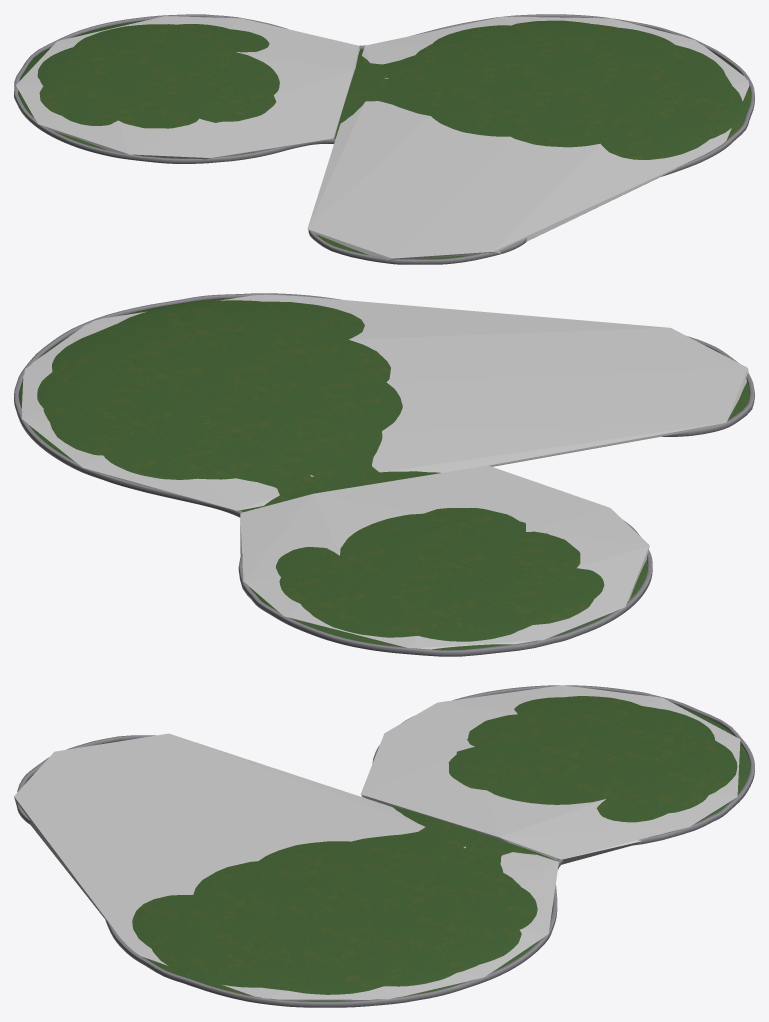
The model's file is SM_GrassPlatform.fbx.
3 renders of one model, top to bottom at view 1: azimuth 30°, elevation 25°; view 2: azimuth 150°, elevation 25°; view 3: azimuth 270°, elevation 25°, orthographic. The views are drawn at different scales.
Parts seen in each view (by area): view 1: SM_GrassPlatform, SM_GrassPlatform_ConvexHulls; view 2: SM_GrassPlatform, SM_GrassPlatform_ConvexHulls; view 3: SM_GrassPlatform, SM_GrassPlatform_ConvexHulls.
Part boxes in pixels (bbox=[...]): SM_GrassPlatform: bbox=[14, 14, 754, 264]; SM_GrassPlatform_ConvexHulls: bbox=[16, 16, 749, 261]; SM_GrassPlatform: bbox=[14, 293, 754, 656]; SM_GrassPlatform_ConvexHulls: bbox=[21, 294, 748, 649]; SM_GrassPlatform: bbox=[17, 685, 754, 1007]; SM_GrassPlatform_ConvexHulls: bbox=[14, 685, 740, 1000].
Bounding box in the file's own units: 3425 × 3370 × 119.
3 materials, 2 textured.
